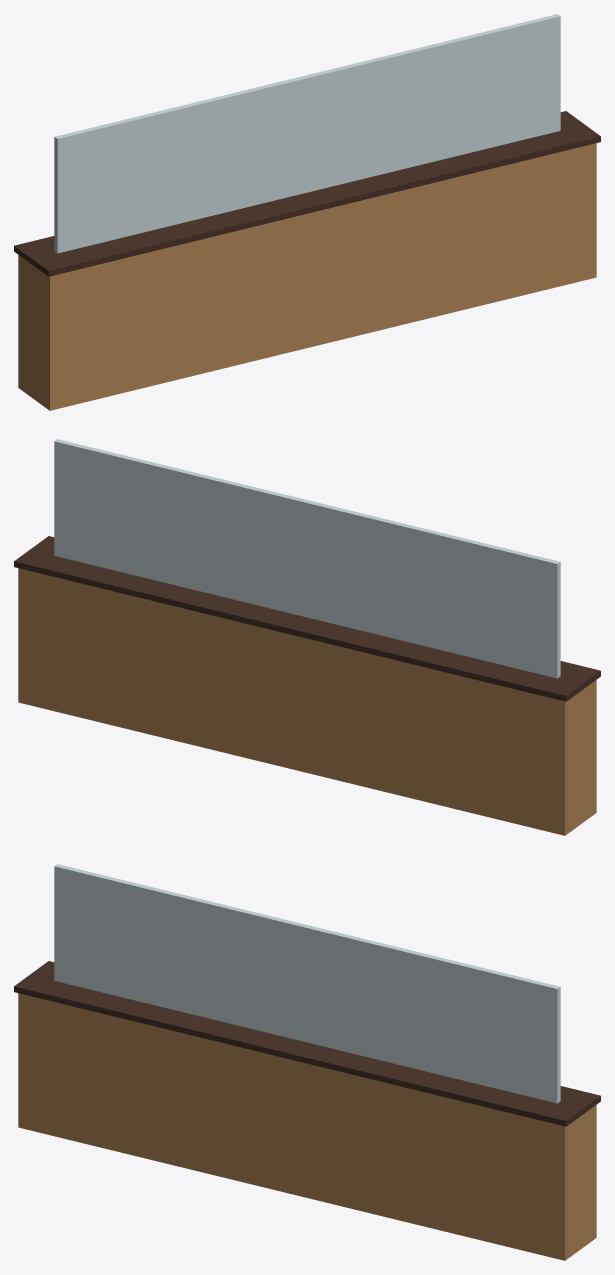
3 renders of one model, top to bottom at view 1: azimuth 30°, elevation 25°; view 2: azimuth 150°, elevation 25°; view 3: azimuth 330°, elevation 25°, orthographic.
Parts seen in each view (by area): view 1: isla_ssur; view 2: isla_ssur; view 3: isla_ssur.
Part boxes in pixels (box(x1,y1,x2,y2)): isla_ssur: box(14, 14, 600, 410); isla_ssur: box(14, 439, 600, 835); isla_ssur: box(14, 864, 600, 1260).
Bounding box in the file's own units: 4.04 × 0.44 × 1.79.
